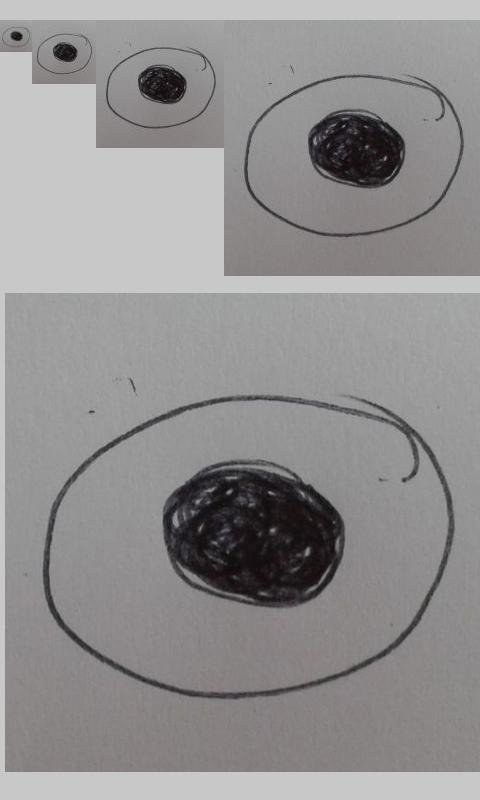radio_button: (37, 389, 460, 705), (243, 71, 466, 239), (104, 45, 218, 130), (36, 32, 93, 75), (1, 26, 31, 48)
